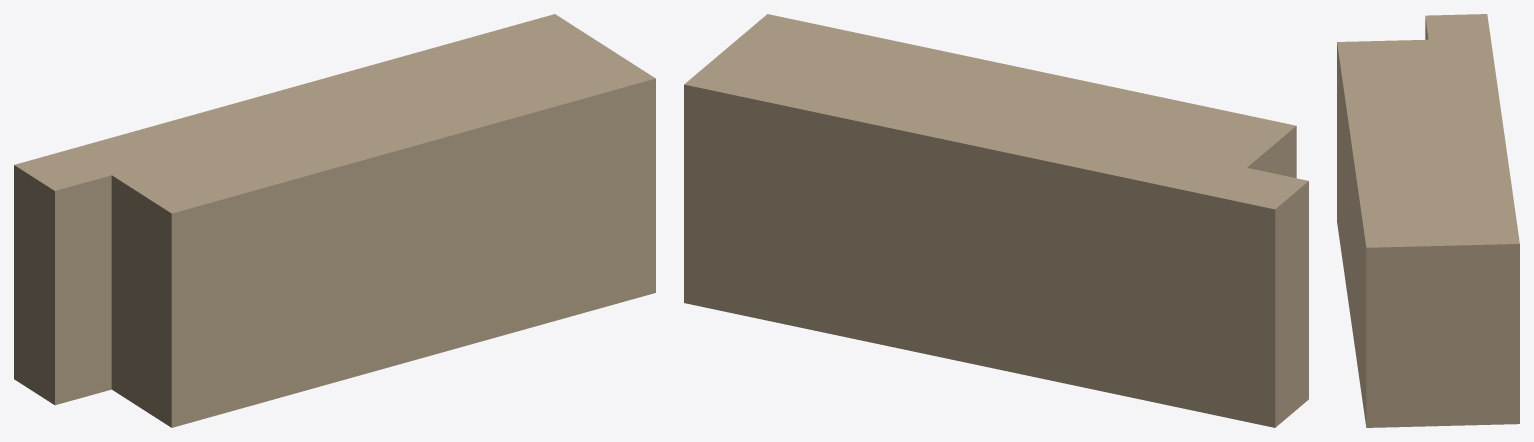
File: bld_106466786.dae
3 views of the same model, side by side, from view 1: azimuth 30°, elevation 25°; view 2: azimuth 150°, elevation 25°; view 3: azimuth 270°, elevation 25° (orthographic). The views are drawn at different scales.
Parts seen in each view (by area): view 1: bld_106466786; view 2: bld_106466786; view 3: bld_106466786.
Boxes of the visible parts, x1,y1,x2,y2 form: bld_106466786: [14, 14, 655, 427]; bld_106466786: [684, 14, 1308, 427]; bld_106466786: [1337, 14, 1519, 427].
Size of the model in its own units: 22.26 by 7.36 by 8.
